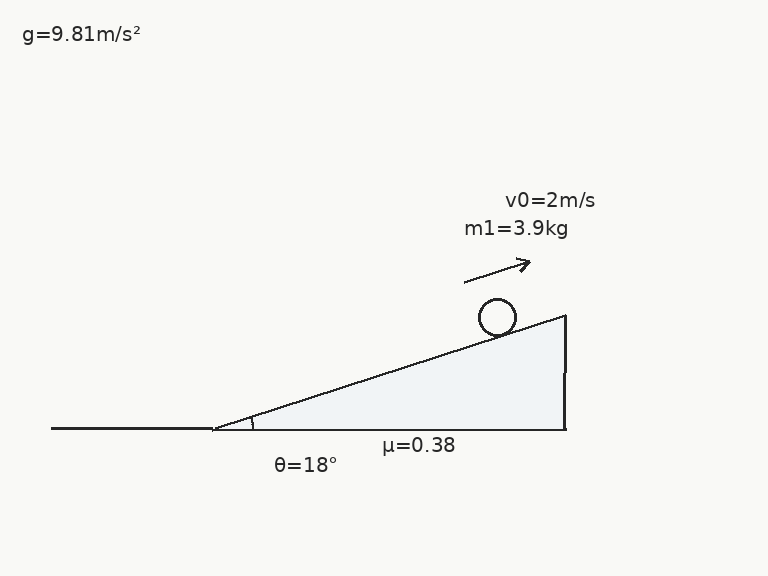ball: (476, 296, 518, 338)
ramp: (211, 313, 567, 431)
